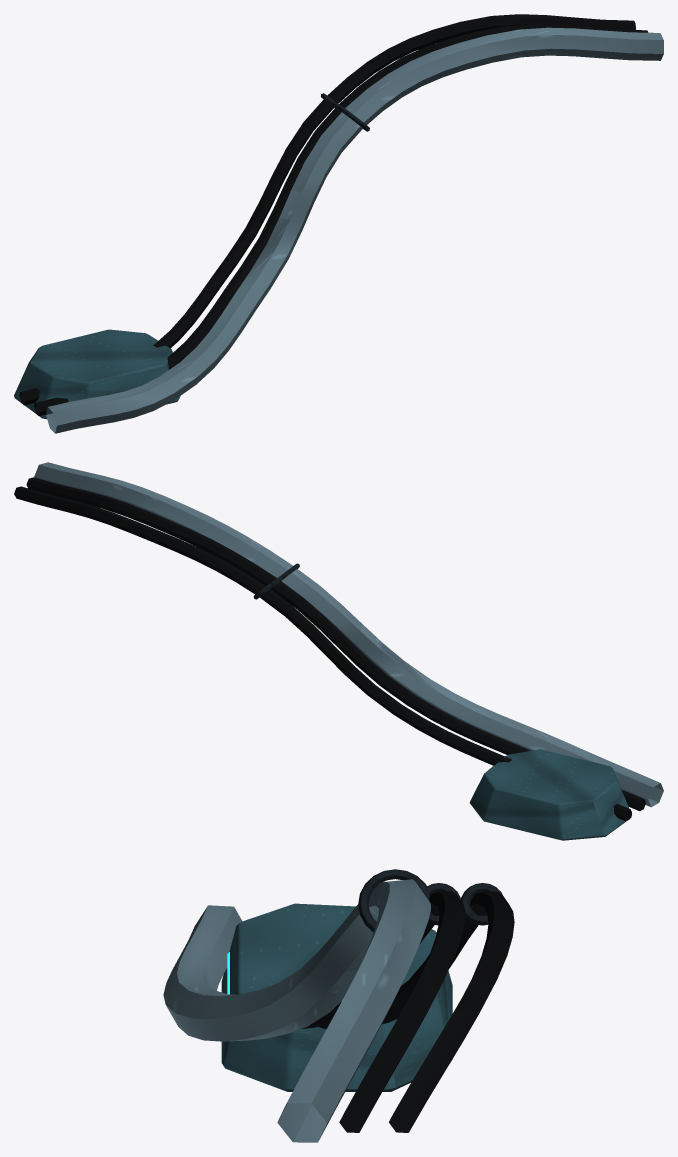
Rendered from Curved_Services_V2.fbx.
3 views of the same model, one above another, from view 1: azimuth 30°, elevation 25°; view 2: azimuth 150°, elevation 25°; view 3: azimuth 270°, elevation 25° (orthographic). The views are drawn at different scales.
Visible parts, largest first — view 1: Curved_Services_V2; view 2: Curved_Services_V2; view 3: Curved_Services_V2.
Part boxes in pixels (x1,y1,x2,y2): Curved_Services_V2: (14,14,663,433); Curved_Services_V2: (14,462,663,840); Curved_Services_V2: (163,869,514,1142).
Size of the model in its own units: 4.74 by 1.75 by 1.21.
